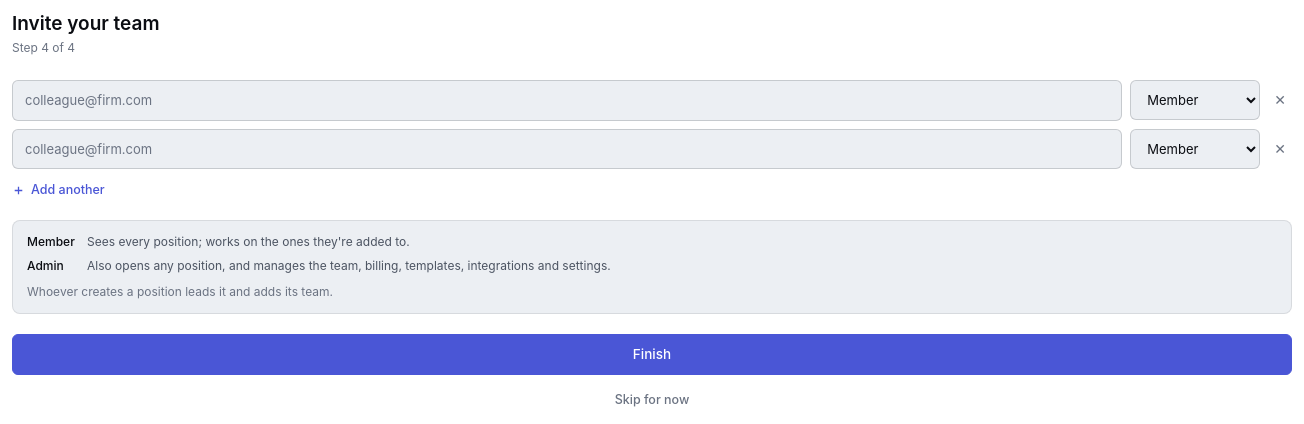
InviteTeamForm › labels the button by how many invites it will send
expect the button "Finish" is shown: met, box [12,334,1292,375]
Type "a@firm.example" into the field named "Colleague's email" at (567, 100), box [12,80,1122,121]
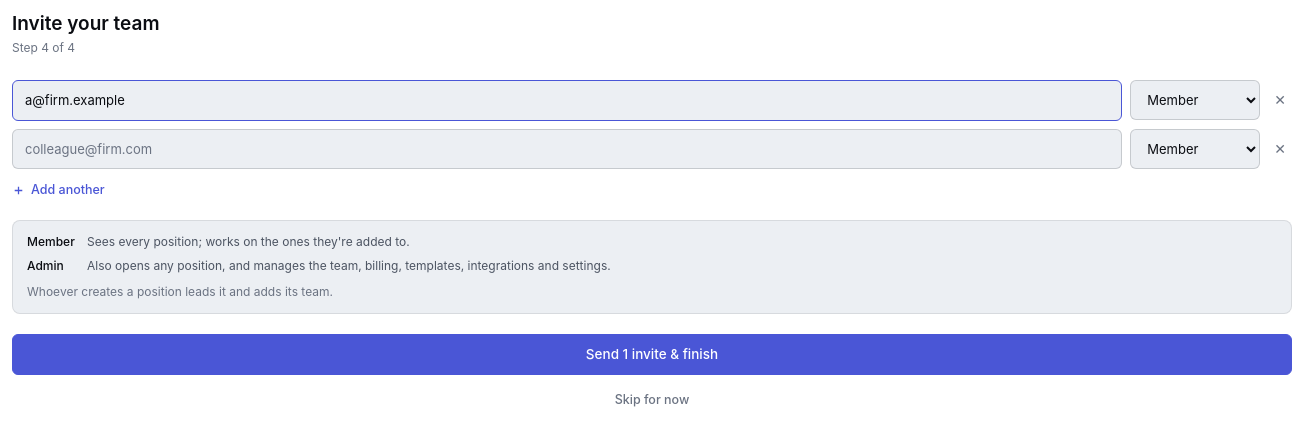
expect the button "Send 1 invite & finish" is shown: met, box [12,334,1292,375]
Type "b@firm.example" into the field named "Colleague's email" at (567, 149), box [12,129,1122,169]
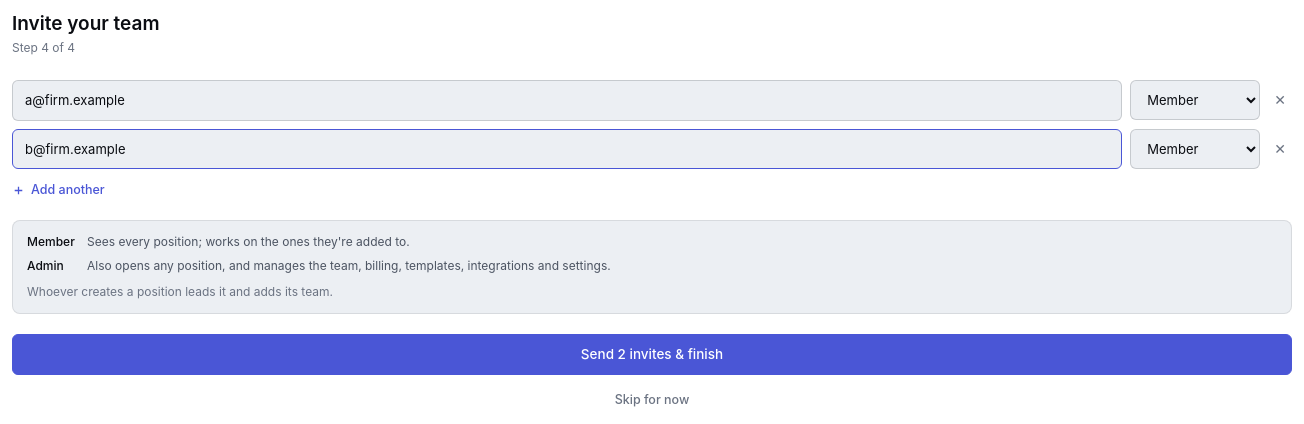
expect the button "Send 2 invites & finish" is shown: met, box [12,334,1292,375]
